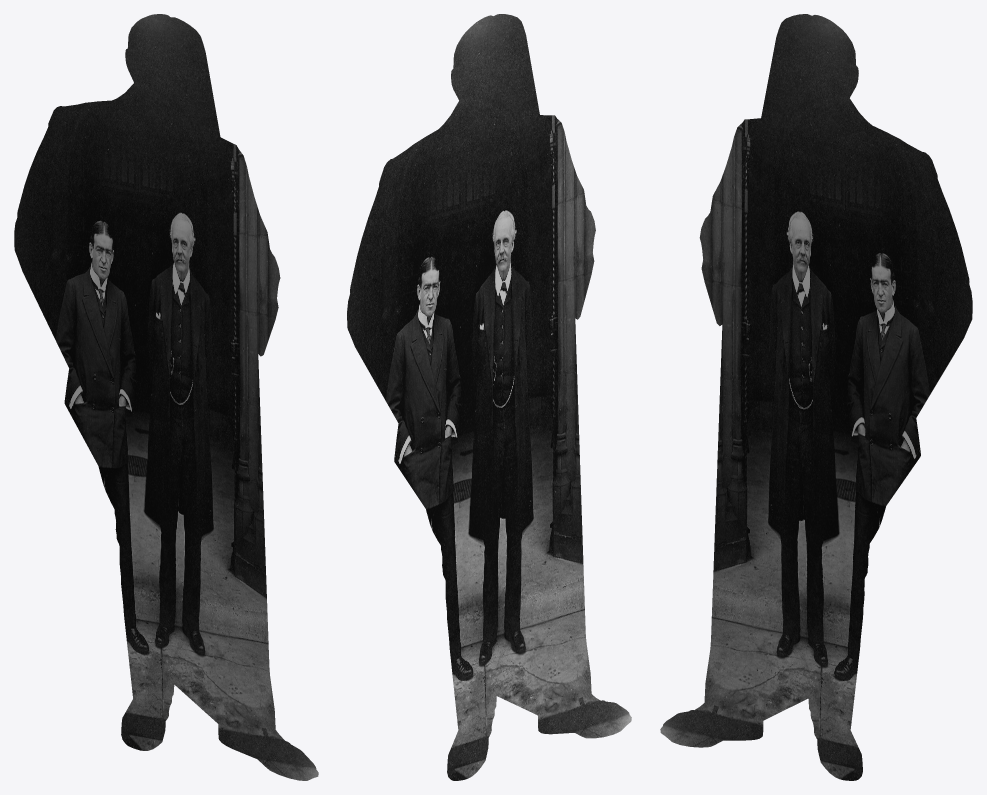
File: shackleton.obj
3 views of the same model, side by side, from view 1: azimuth 90°, elevation 25°; view 2: azimuth 150°, elevation 25°; view 3: azimuth 270°, elevation 25° (orthographic). The views are drawn at different scales.
Size of the model in its own units: 326 by 1827 by 680.
Materials: 1 (1 with a texture image).
